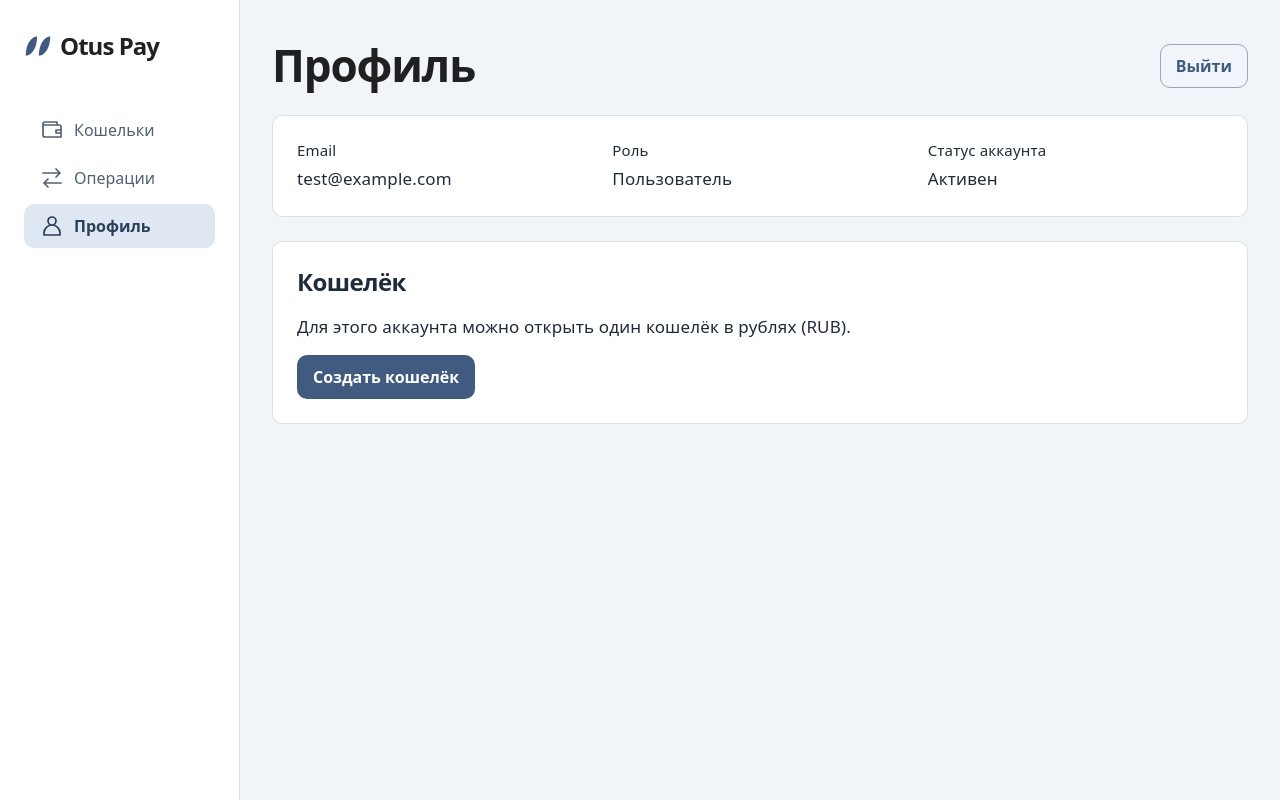
Test: router › starts the next account on its wallets after an explicit logout from the profile
The width and height of the screenshot is (1280, 800).
expect the text "Активен" is shown: met, box [928,167,998,190]
Click the button "Выйти".
click(1204, 66)  # box [1160,44,1248,88]
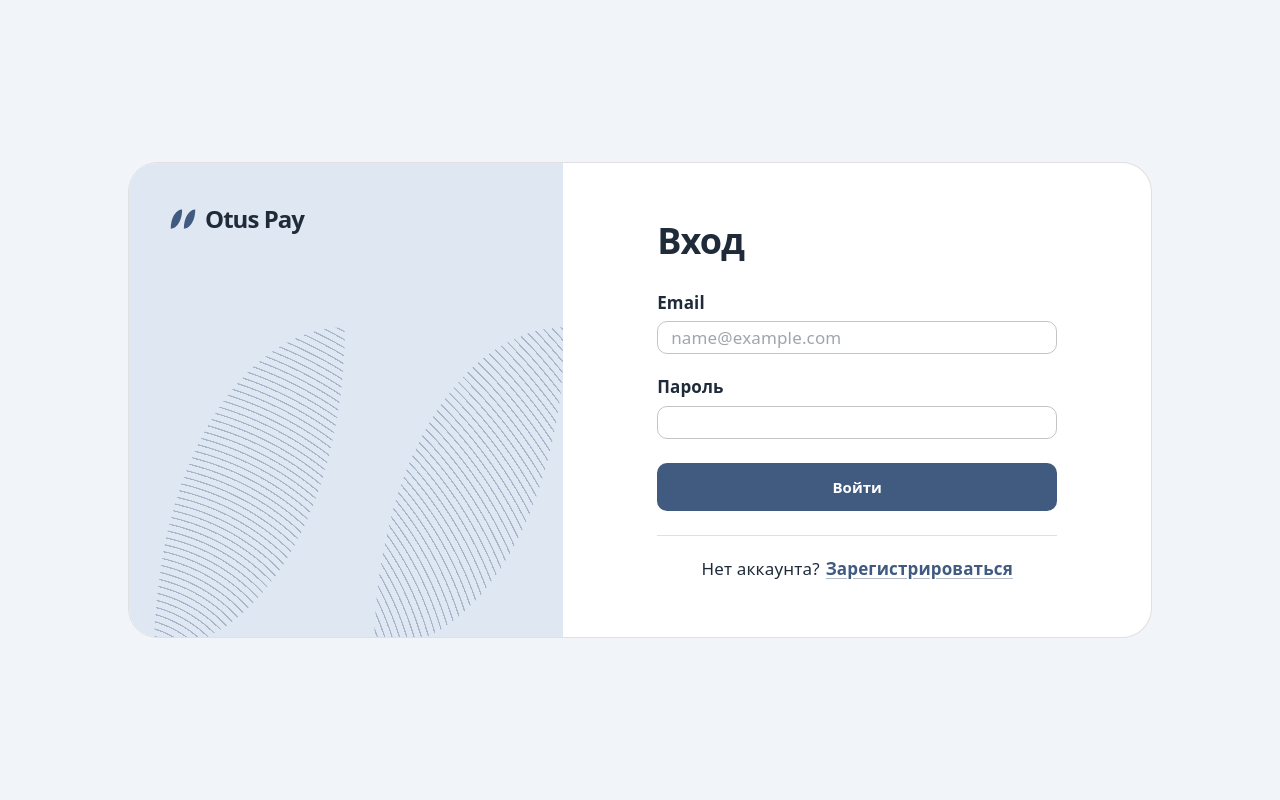
expect the heading "Вход" is shown: met, box [657,216,744,265]
Type "next@example.test" into the field labelled "Email".
click(857, 338); type("next@example.test")  # box [657,321,1057,354]
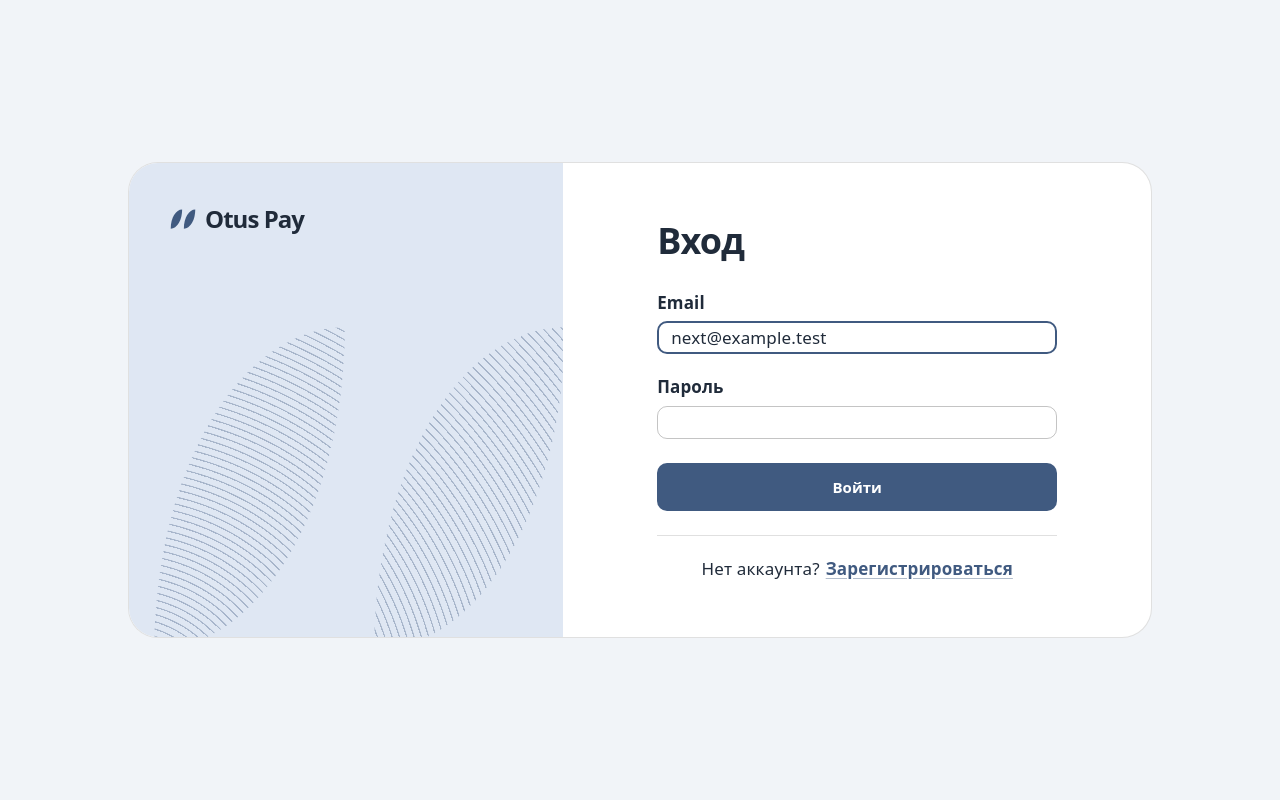
Type "test-password" into the password field labelled "Пароль".
click(857, 422); type("test-password")  # box [657,406,1057,439]
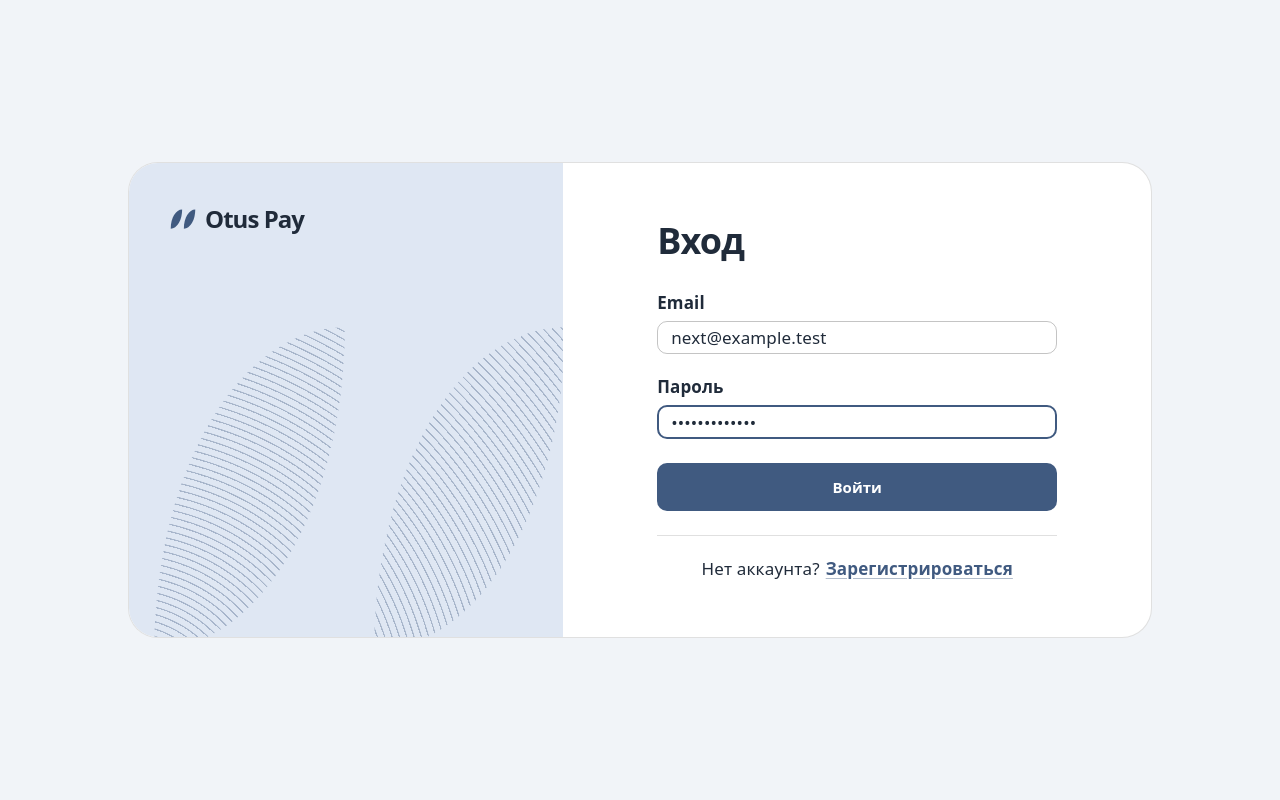
Click the button "Войти".
click(857, 487)  # box [657,463,1057,511]
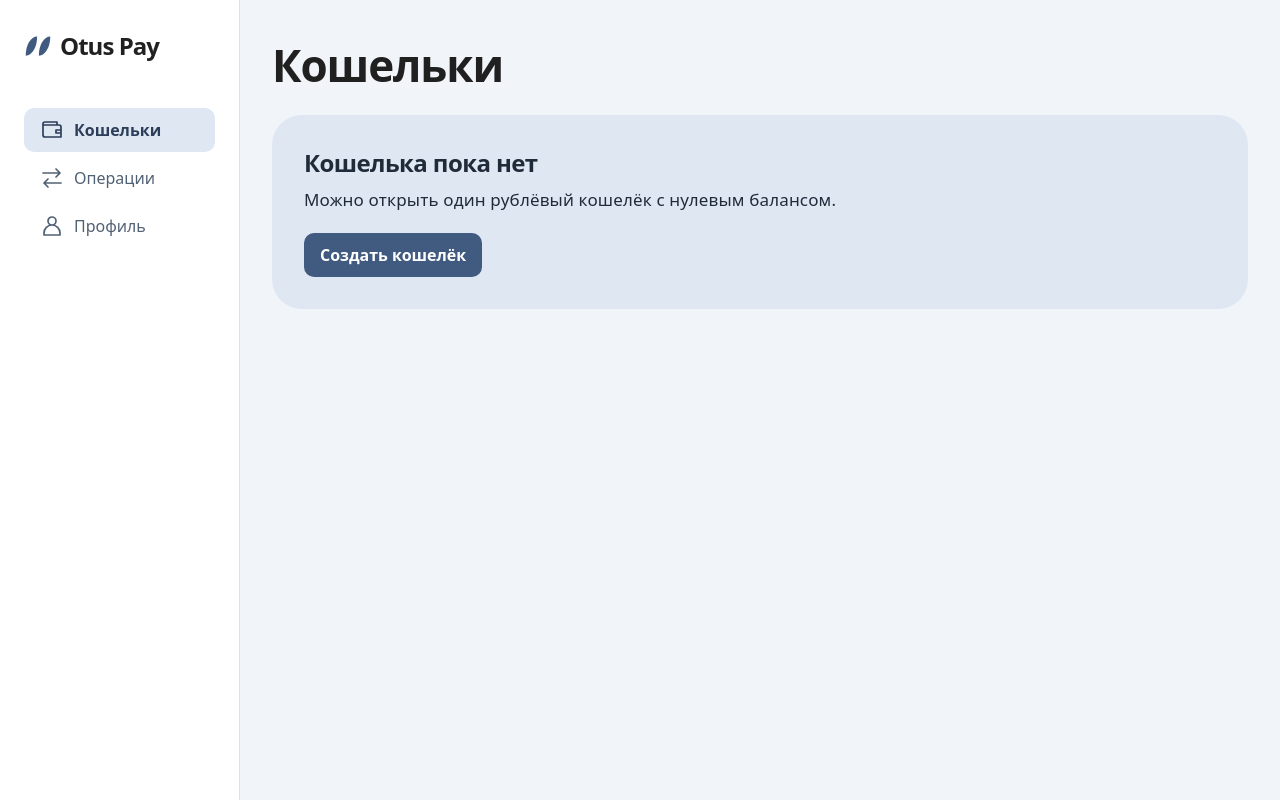
expect the heading "Кошельки" is shown: met, box [272,40,503,91]
